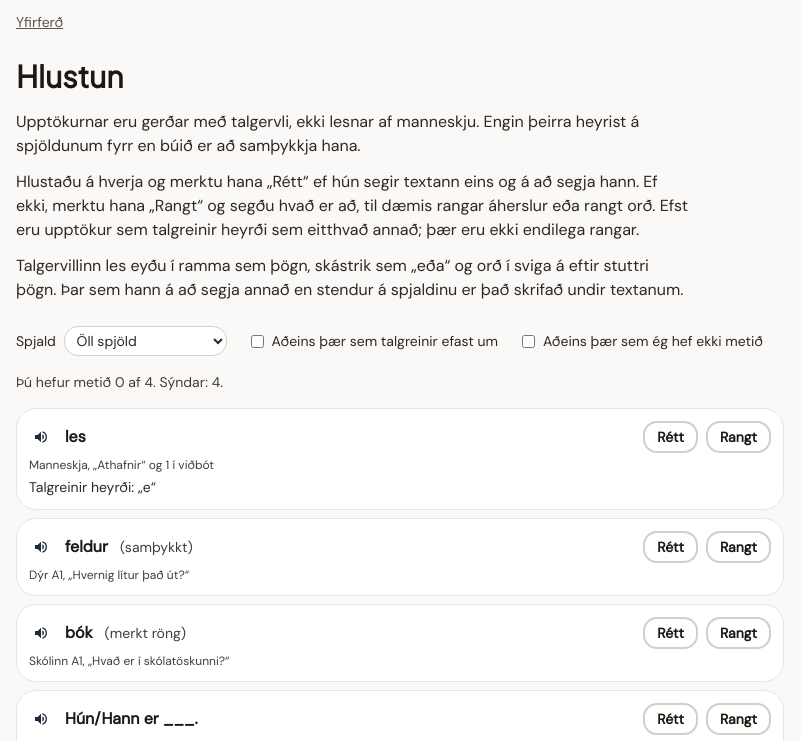
Scenario: the listening page › asks for a recording by the version the page knows, and hashes what that address holds
The width and height of the screenshot is (801, 741).
Click the button named "Hlusta: les". click: (41, 437)
box: [29,425,53,449]
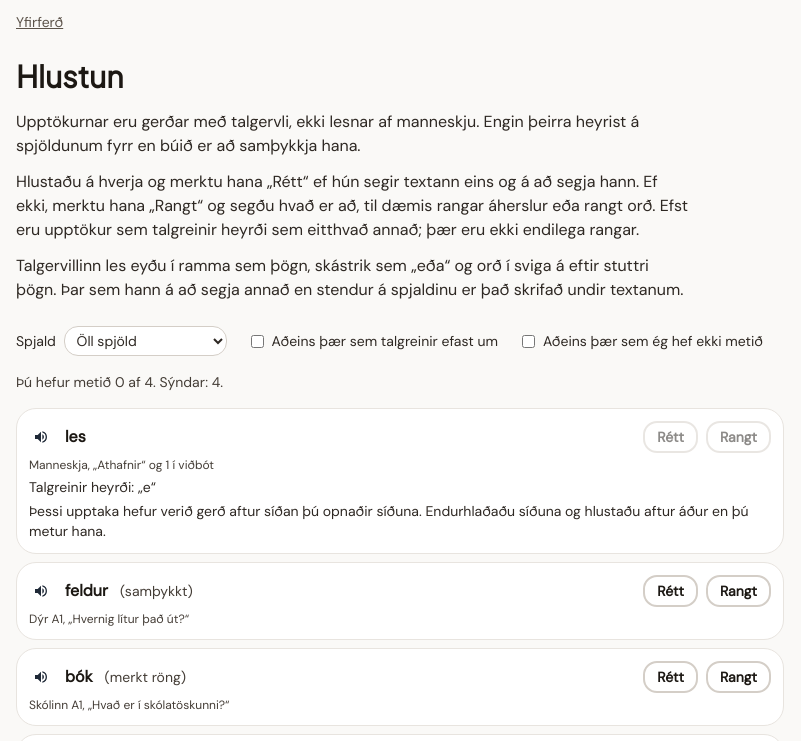
Check: the text "gerð aftur síðan þú opnaðir síðuna" is shown, box [29,502,748,540]
